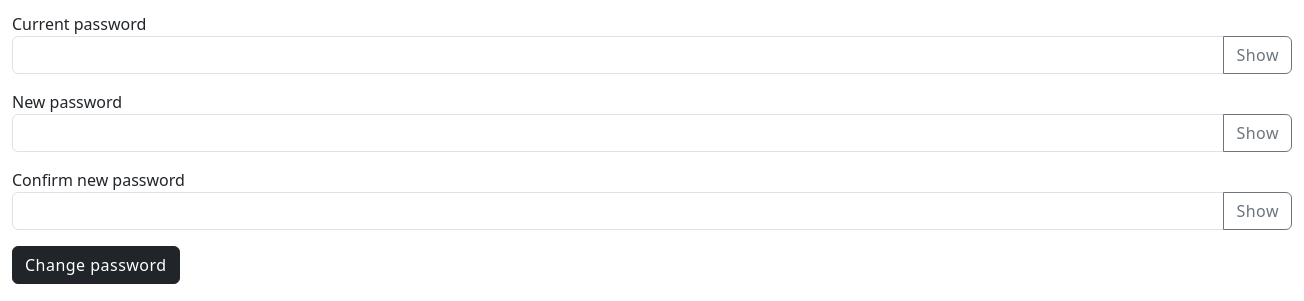
Test: ChangePasswordForm › reveals each password independently without changing its value
This screenshot has width=1304, height=301.
Type "current-secret" into the password field labelled "Current password".
click(618, 55); type("current-secret")  # box [12,36,1224,74]
Type "new-secret" into the password field labelled "New password".
click(618, 133); type("new-secret")  # box [12,114,1224,152]
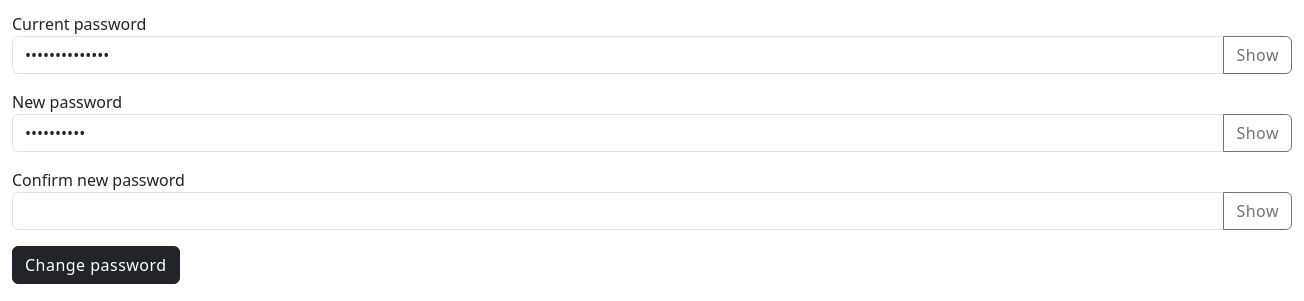
Type "new-secret" into the password field labelled "Confirm new password".
click(618, 211); type("new-secret")  # box [12,192,1224,230]
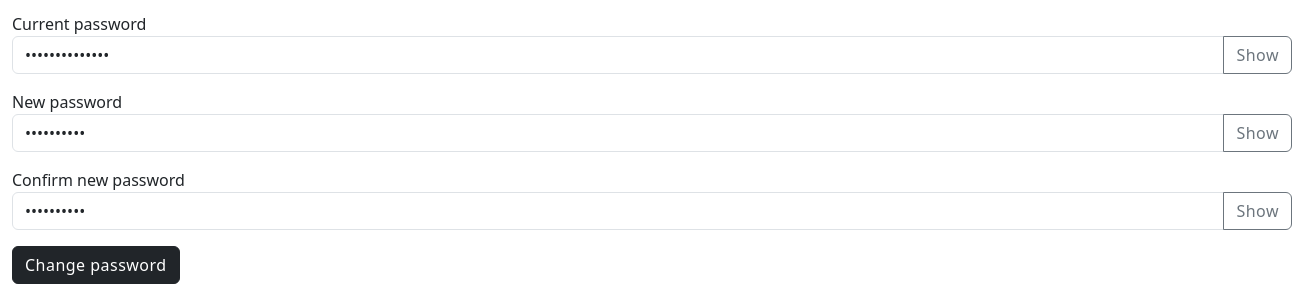
Click the button with aria-label "Show current password".
click(1258, 55)  # box [1224,36,1292,74]
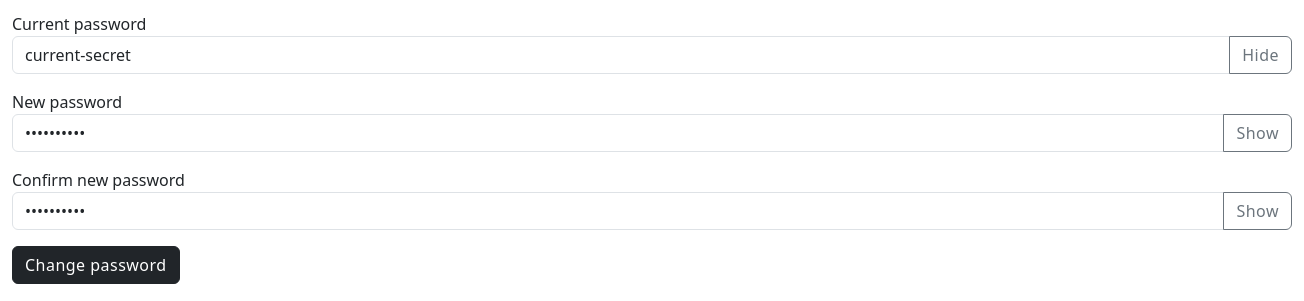
Now the field labelled "Current password" shows its text, box [12,36,1230,74]
Click the button with aria-label "Show new password".
click(1258, 133)  # box [1224,114,1292,152]
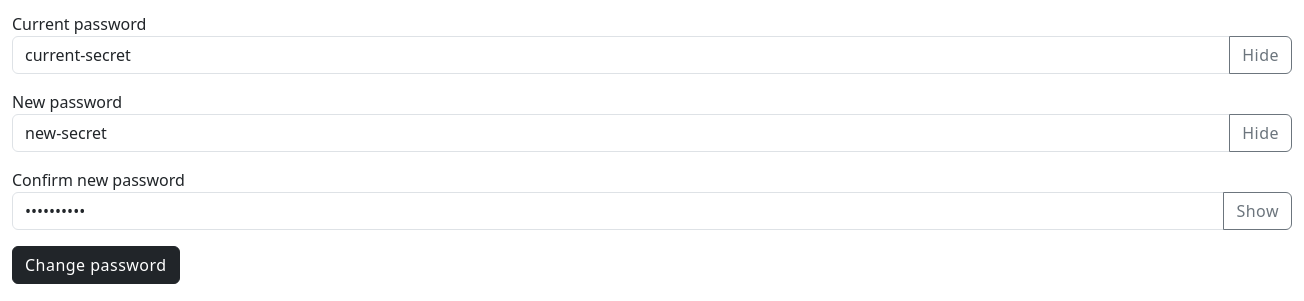
Now the field labelled "New password" shows its text, box [12,114,1230,152]
Click the button with aria-label "Show confirm new password".
click(1258, 211)  # box [1224,192,1292,230]
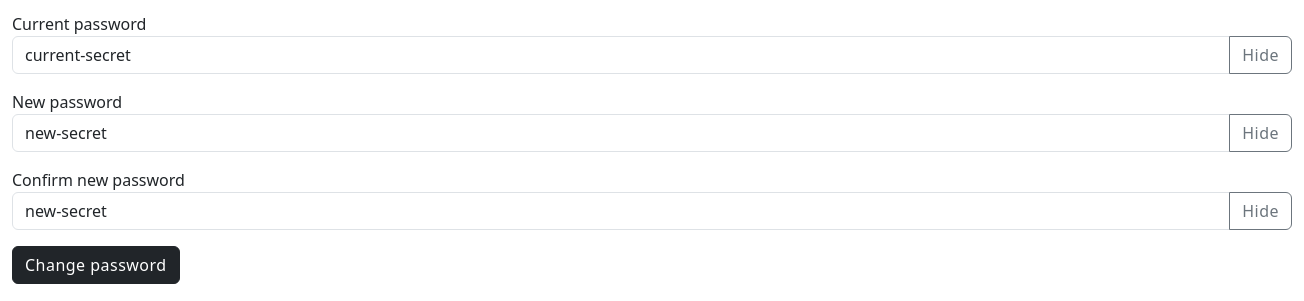
Now the field labelled "Confirm new password" shows its text, box [12,192,1230,230]
Click the button with aria-label "Hide current password".
click(1261, 55)  # box [1229,36,1292,74]
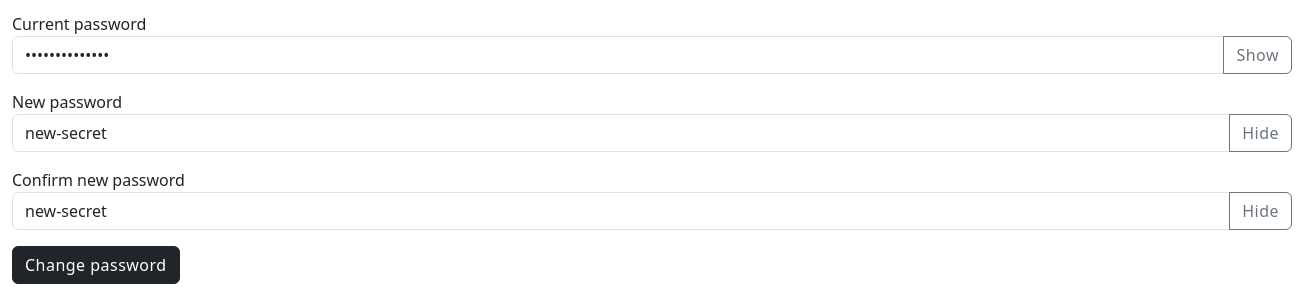
Now the password field labelled "Current password" hides its text, box [12,36,1224,74]
